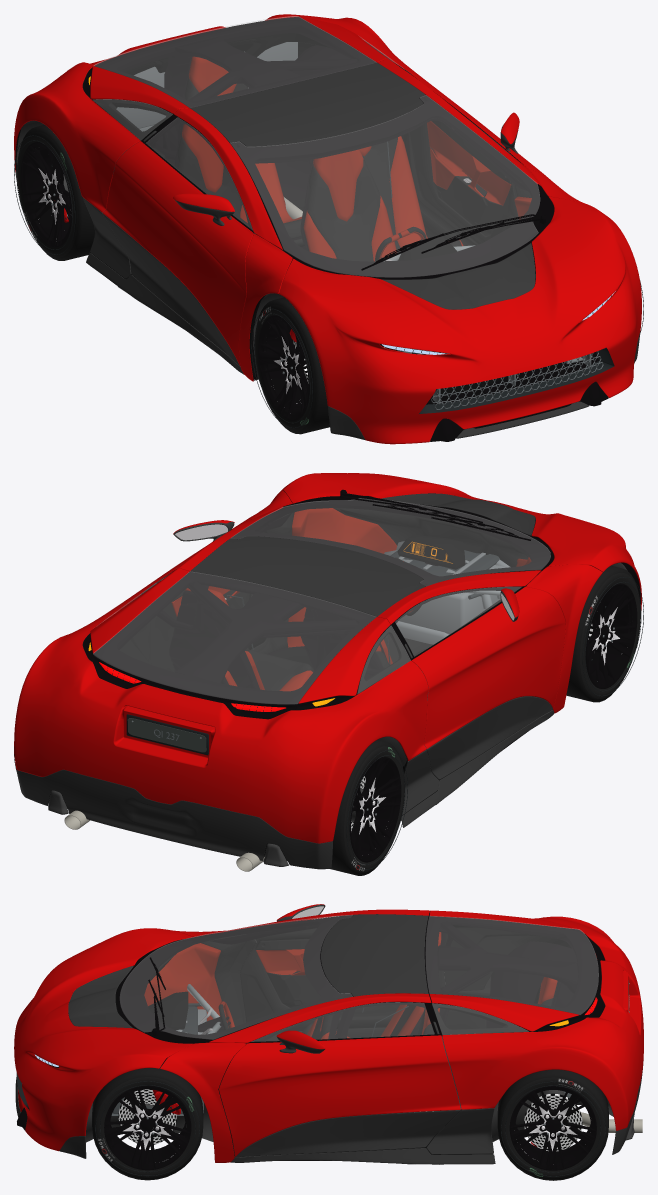
Rendered from coupe.glb.
3 views of the same model, one above another, from view 1: azimuth 30°, elevation 25°; view 2: azimuth 150°, elevation 25°; view 3: azimuth 270°, elevation 25° (orthographic). The views are drawn at different scales.
Parts seen in each view (by area): view 1: glass_BodyWindshield, panel_hood.001, glass_BodyRearwindow, panel_BodyDoorRColor1, panel_BodyRoofPanel, BodyWindshieldGasket, panel_bumper_front, panel_rear_quarter_L, InteriorSeatsColor1, panel_front_fender_L, panel_BodyPillars, InteriorSeatsColor2 (+30 smaller); view 2: glass_BodyRearwindow, panel_rear_quarter_L, panel_BodyPanelsColor2, glass_BodyWindshield, panel_BodyDoorRColor1, panel_rear_quarter_R, panel_bumper_rear.001, panel_BodyRoofPanel, InteriorRearHatch, panel_BodyPillars, InteriorPillar, BodyWindshieldGasket (+29 smaller); view 3: glass_BodyWindshield, panel_BodyDoorLColor1, panel_rear_quarter_R, glass_BodyRearwindow, panel_BodyRoofPanel, panel_hood.001, panel_BodyPillars, panel_BodyDoorLColor2, BodyWindshieldGasket, panel_BodyPanelsColor2, panel_front_fender_R, WheelFrontLRim (+29 smaller).
Part boxes in pixels (x1,y1,x2,y2): glass_BodyWindshield: [230, 95, 539, 277]; panel_hood.001: [338, 219, 623, 389]; glass_BodyRearwindow: [94, 16, 376, 107]; panel_BodyDoorRColor1: [103, 141, 253, 365]; panel_BodyRoofPanel: [190, 62, 425, 146]; BodyWindshieldGasket: [230, 96, 554, 279]; panel_bumper_front: [322, 302, 641, 444]; panel_rear_quarter_L: [16, 36, 188, 193]; InteriorSeatsColor1: [182, 56, 463, 261]; panel_front_fender_L: [279, 258, 406, 390]; panel_BodyPillars: [174, 58, 588, 381]; InteriorSeatsColor2: [177, 77, 461, 261]; glass_BodyRearwindow: [93, 571, 375, 704]; panel_rear_quarter_L: [159, 617, 428, 799]; panel_BodyPanelsColor2: [16, 645, 637, 869]; glass_BodyWindshield: [230, 498, 550, 585]; panel_BodyDoorRColor1: [411, 586, 565, 748]; panel_rear_quarter_R: [16, 568, 189, 767]; panel_bumper_rear.001: [14, 716, 426, 843]; panel_BodyRoofPanel: [190, 536, 425, 616]; InteriorRearHatch: [93, 572, 389, 709]; panel_BodyPillars: [177, 490, 602, 713]; InteriorPillar: [175, 573, 419, 683]; BodyWindshieldGasket: [231, 498, 554, 586]; glass_BodyWindshield: [120, 915, 352, 1039]; panel_BodyDoorLColor1: [219, 1035, 460, 1156]; panel_rear_quarter_R: [429, 977, 642, 1093]; glass_BodyRearwindow: [425, 916, 598, 1014]; panel_BodyRoofPanel: [321, 914, 428, 996]; panel_hood.001: [14, 947, 156, 1091]; panel_BodyPillars: [160, 909, 431, 1162]; panel_BodyDoorLColor2: [236, 1110, 460, 1156]; BodyWindshieldGasket: [116, 915, 352, 1043]; panel_BodyPanelsColor2: [15, 1065, 643, 1164]; panel_front_fender_R: [32, 1037, 193, 1114]; WheelFrontLRim: [104, 1085, 191, 1170].
Size of the model in its own units: 2.27 by 1.19 by 4.23.
28 materials, 5 textured.
